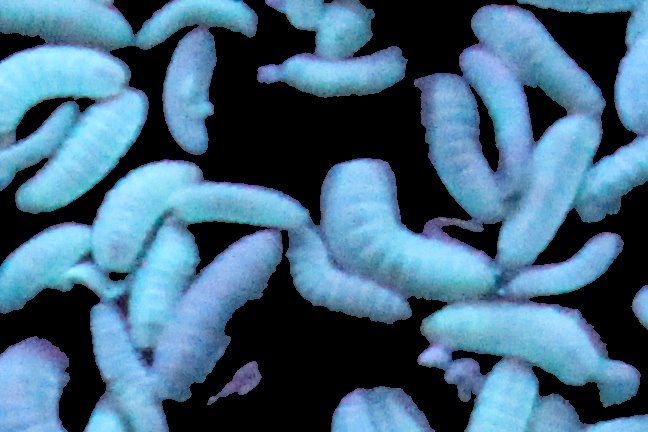larvae: (322, 157, 497, 294), (154, 232, 287, 392), (16, 87, 146, 212), (423, 299, 601, 387), (500, 111, 601, 262), (467, 3, 601, 115), (418, 70, 504, 221), (90, 160, 201, 271), (288, 223, 412, 322), (1, 46, 130, 138), (85, 311, 172, 432), (461, 45, 532, 191), (123, 227, 201, 345), (1, 222, 89, 315), (508, 233, 620, 295), (162, 27, 215, 154), (1, 338, 72, 432), (175, 182, 309, 231), (1, 100, 78, 185), (1, 1, 132, 50), (278, 51, 406, 98), (463, 359, 538, 432), (576, 140, 648, 216), (134, 1, 258, 45), (612, 36, 648, 141)
